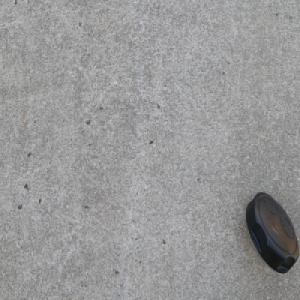FuelCap: (245, 190, 299, 275)
